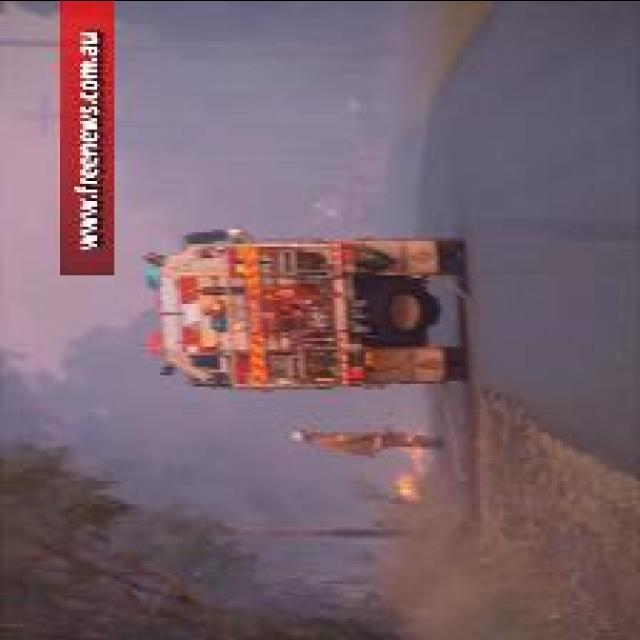Fire: (394, 442, 428, 498)
